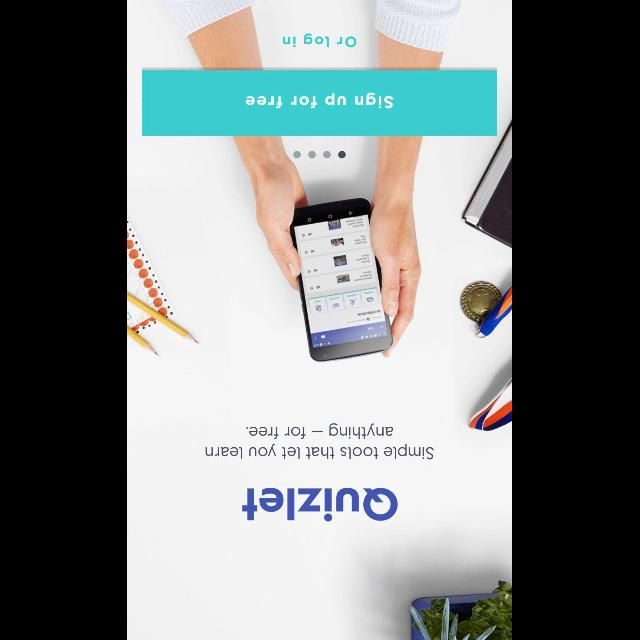backgroundimage: (128, 1, 512, 640)
pageindicator: (294, 151, 346, 159)
text: (206, 423, 434, 459), (244, 488, 398, 522), (284, 33, 358, 47)
textbutton: (142, 70, 498, 136)
